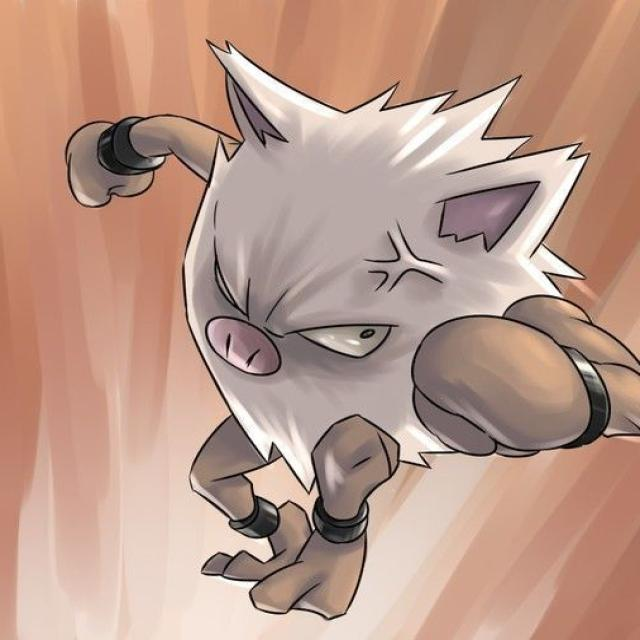Primeape: (103, 103, 595, 606)
